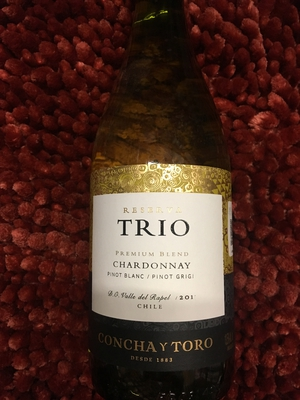trio chardonnay: (85, 10, 243, 384)
